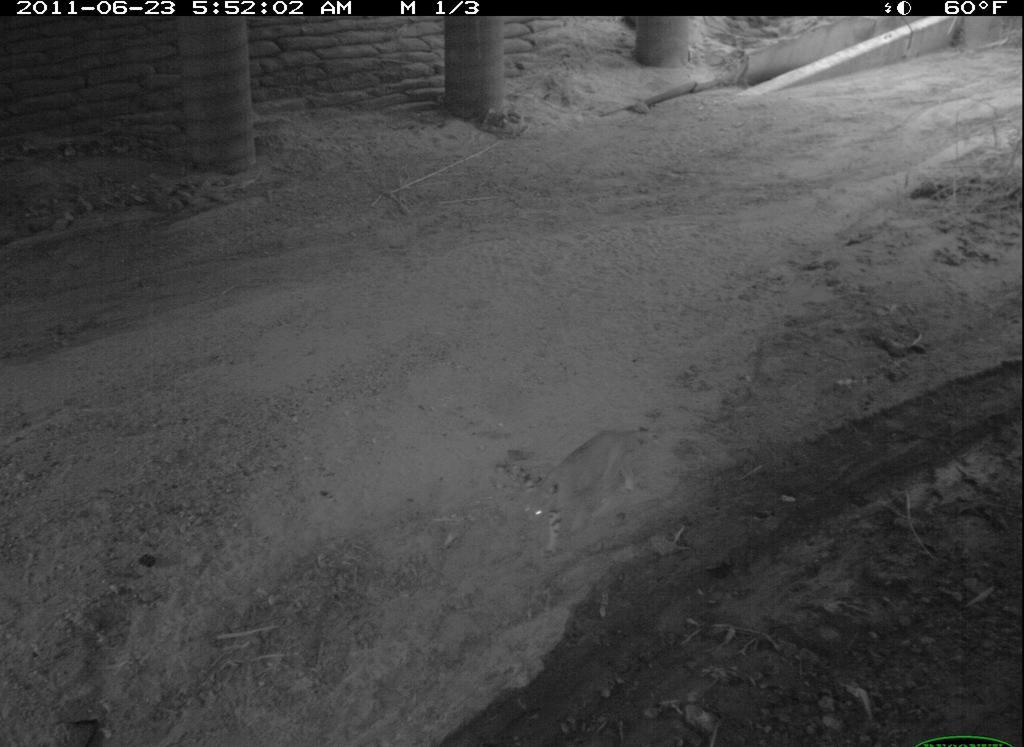bobcat: (514, 420, 656, 559)
